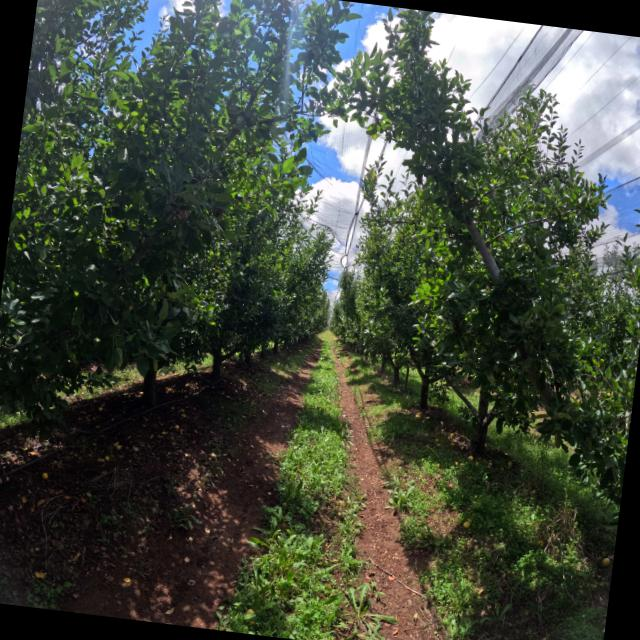-FireBlight-: (176, 208, 191, 219), (217, 206, 225, 222)
